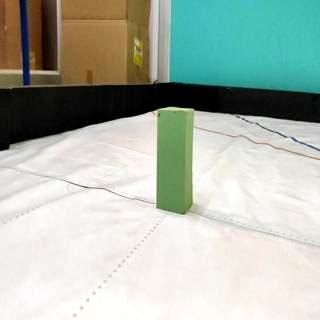greenbox: (155, 106, 195, 215)
